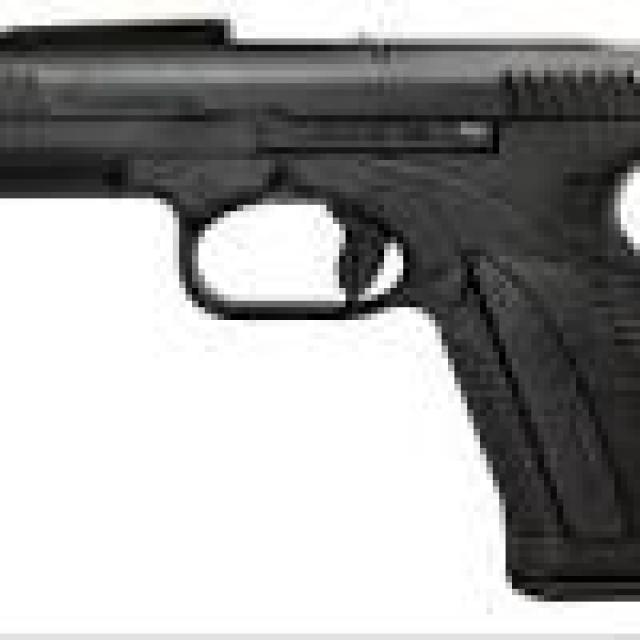Gun: (0, 17, 640, 633)
